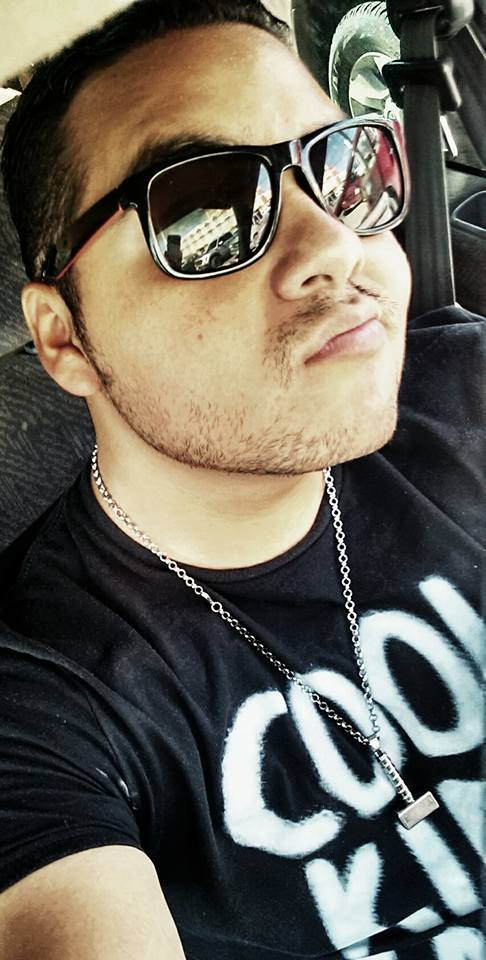Yoshi: (16, 20, 436, 534)
